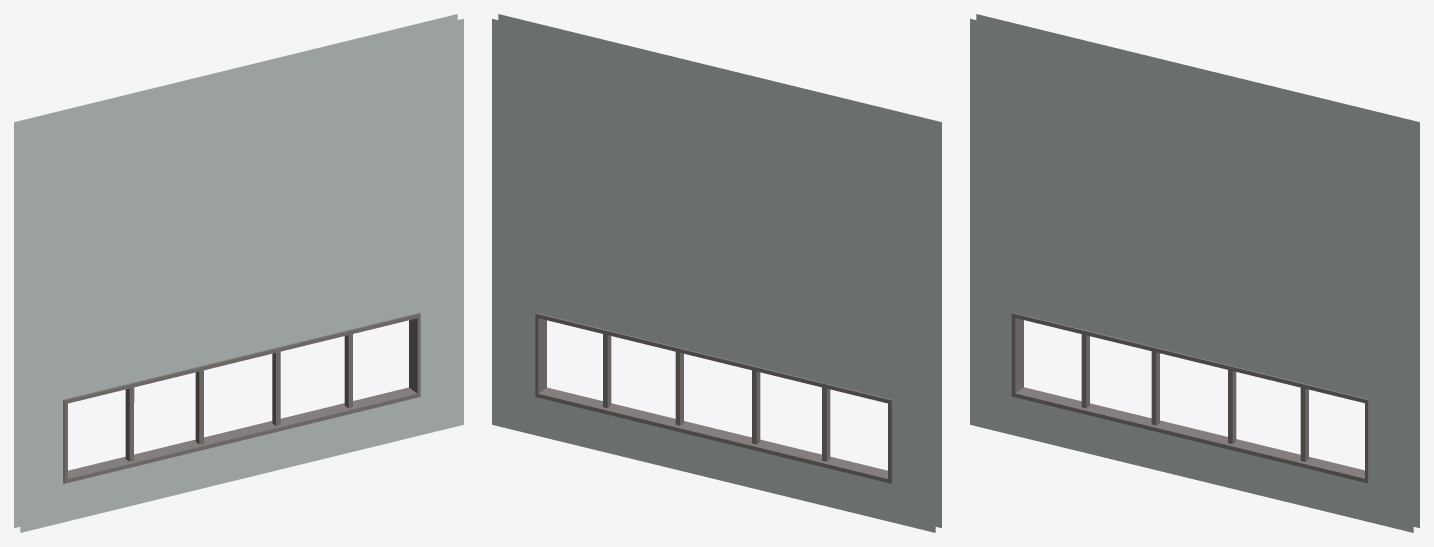
File: SM_Wall_Outer_Window_A_800.fbx
3 views of the same model, side by side, from view 1: azimuth 30°, elevation 25°; view 2: azimuth 150°, elevation 25°; view 3: azimuth 330°, elevation 25° (orthographic).
Parts seen in each view (by area): view 1: SM_Wall_Outer_Window_A_800; view 2: SM_Wall_Outer_Window_A_800; view 3: SM_Wall_Outer_Window_A_800.
Part boxes in pixels (box(x1,y1,x2,y2)): SM_Wall_Outer_Window_A_800: box(14, 14, 463, 532); SM_Wall_Outer_Window_A_800: box(492, 14, 941, 532); SM_Wall_Outer_Window_A_800: box(970, 14, 1419, 532).
Bounding box in the file's own units: 800 × 27.27 × 700.
5 materials, 5 textured.
